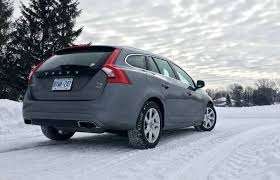car: (21, 44, 217, 149)
